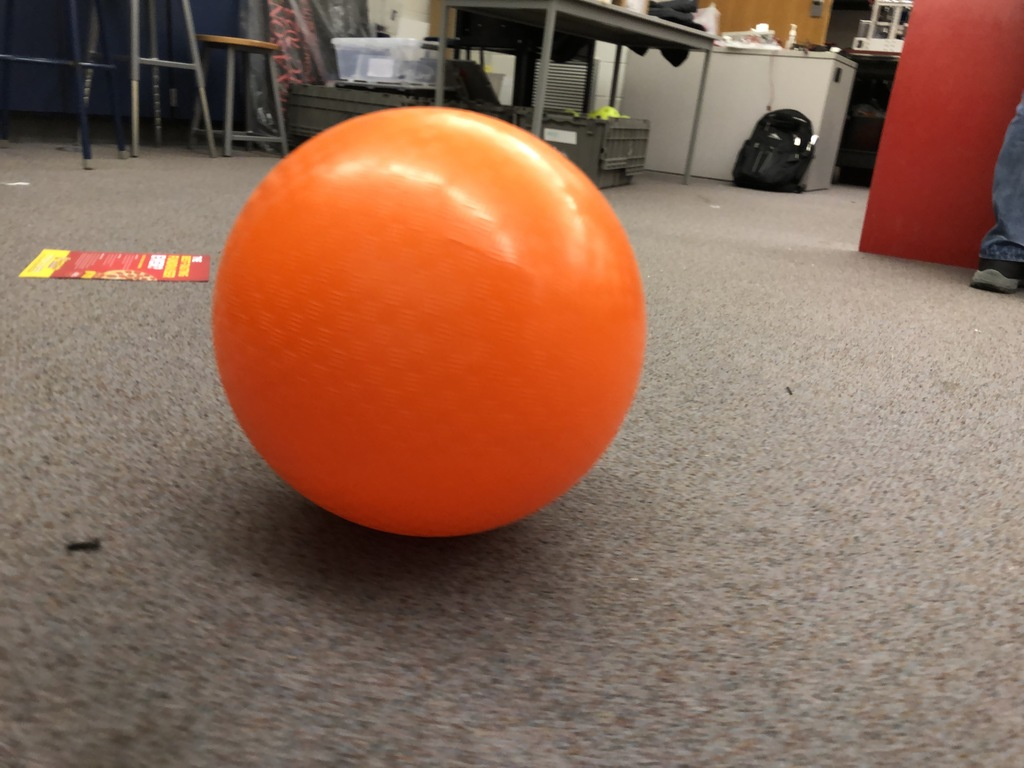cargo: (195, 84, 683, 555)
